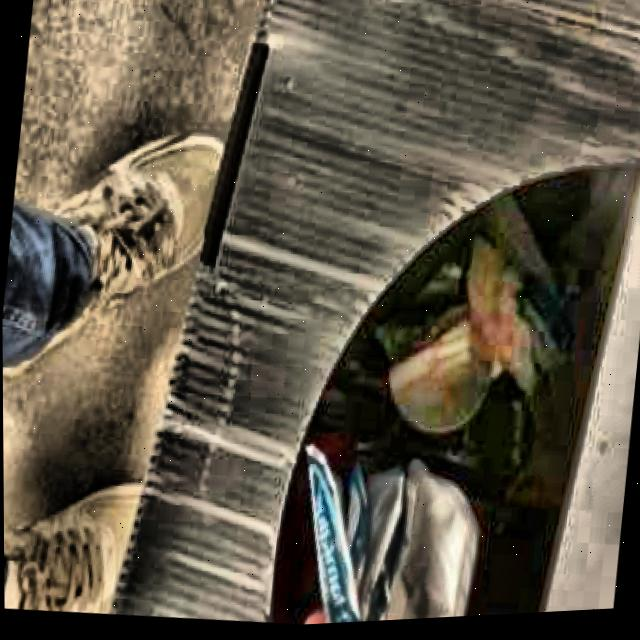plastic: (305, 448, 477, 627)
